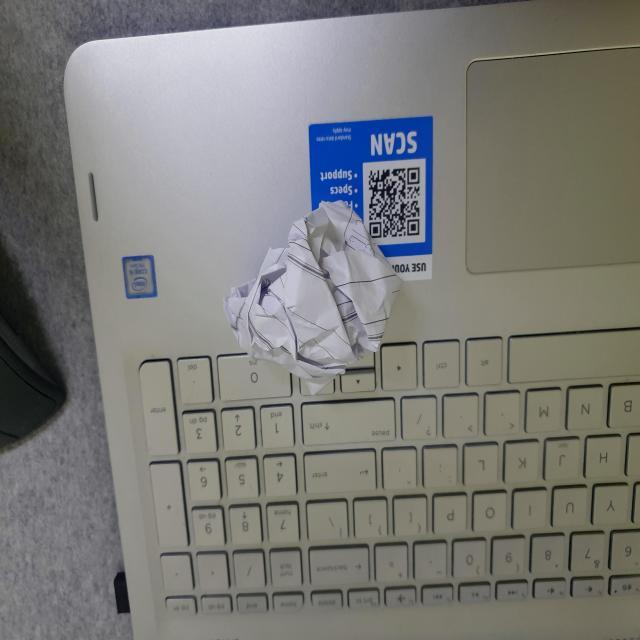Paper: (218, 194, 422, 388)
